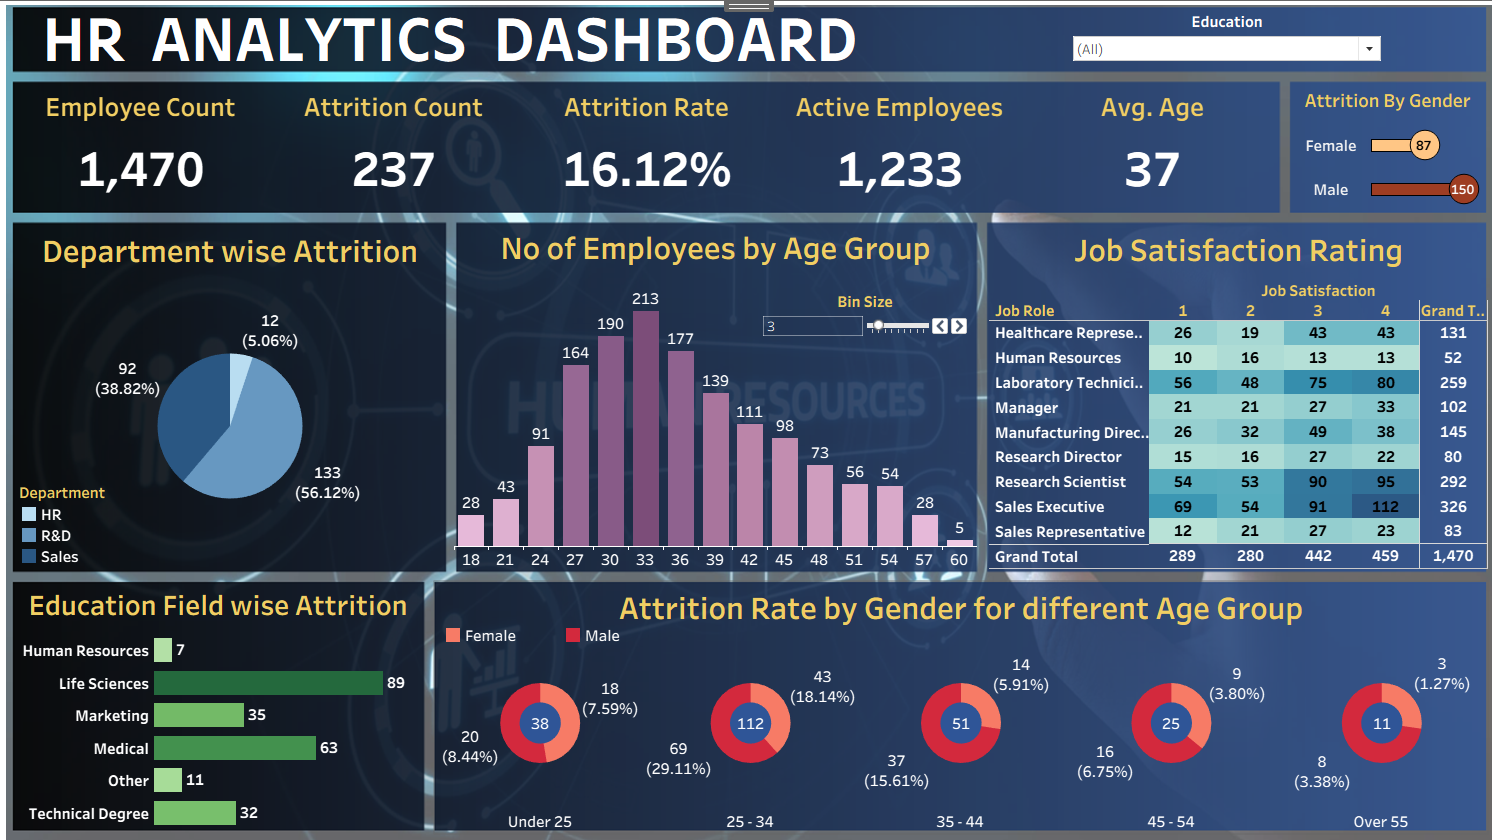

Layout of this report page (visuals, bound fields, positions):
{"tool":"tableau","page":{"name":"HR ANALYTICS DASHBOARD","canvas":[1580,860],"ordinal":0},"visuals":[{"type":"image","param":"C:/Users/SAIKAT PRADHAN/Documents/BRICS/Tableau/HR background image.png","box":[8,8,1564,844]},{"type":"text","box":[54,18,1473,51]},{"type":"filter","title":"Department wise Attrition","param":"[federated.1v7f9230h746rx1fs19ry00ef86b].[none:Education:nk]","box":[1111,18,314,59]},{"type":"worksheet","title":"KPI","mark":"Automatic","box":[55,90,1265,128]},{"type":"worksheet","title":"Attrition by Gender","mark":"Automatic","rows":["Gender"],"cols":["Calculation_933089548718870528","Calculation_933089548718870528"],"box":[1332,90,193,128]},{"type":"worksheet","title":"No of Employees by Age Group","mark":"Automatic","rows":["Employee Count"],"cols":["Age (bin)"],"box":[495,229,523,349]},{"type":"worksheet","title":"Job Satisfaction Rating","mark":"Square","rows":["Job Role"],"cols":["Job Satisfaction"],"box":[1030,231,499,346]},{"type":"worksheet","title":"Department wise Attrition","mark":"Pie","box":[56,232,430,346]},{"type":"parameter","param":"[Parameters].[Parameter 1]","box":[801,298,210,53]},{"type":"legend","title":"Department wise Attrition","param":"[federated.1v7f9230h746rx1fs19ry00ef86b].[none:Department:nk]","box":[60,489,140,85]},{"type":"worksheet","title":"Education Field wise Attrition","mark":"Automatic","rows":["Education Field"],"cols":["Calculation_933089548718870528"],"box":[55,589,408,247]},{"type":"worksheet","title":"Attrition Rate by Gender for different Age Group","mark":"Pie","rows":["Calculation_933089548797665286","Calculation_933089548797665286"],"cols":["CF_age band"],"box":[476,589,1052,251]},{"type":"legend","title":"Attrition Rate by Gender for different Age Group","param":"[federated.1v7f9230h746rx1fs19ry00ef86b].[none:Gender:nk]","box":[484,632,252,20]}]}

Visuals, with their boxes in screenshot pixels (x1, y1, x2, y2):
image: BBox(0, 0, 1491, 839)
text: BBox(4, 6, 1478, 57)
"Department wise Attrition" filter: BBox(1062, 6, 1376, 65)
"KPI" worksheet: BBox(5, 78, 1271, 207)
"Attrition by Gender" worksheet: BBox(1283, 78, 1476, 207)
"No of Employees by Age Group" worksheet: BBox(445, 218, 968, 567)
"Job Satisfaction Rating" worksheet (Square marks): BBox(980, 220, 1480, 566)
"Department wise Attrition" worksheet (Pie marks): BBox(6, 221, 436, 567)
parameter: BBox(751, 287, 961, 340)
"Department wise Attrition" legend: BBox(10, 478, 150, 563)
"Education Field wise Attrition" worksheet: BBox(5, 578, 413, 825)
"Attrition Rate by Gender for different Age Group" worksheet (Pie marks): BBox(426, 578, 1479, 829)
"Attrition Rate by Gender for different Age Group" legend: BBox(434, 621, 686, 641)
